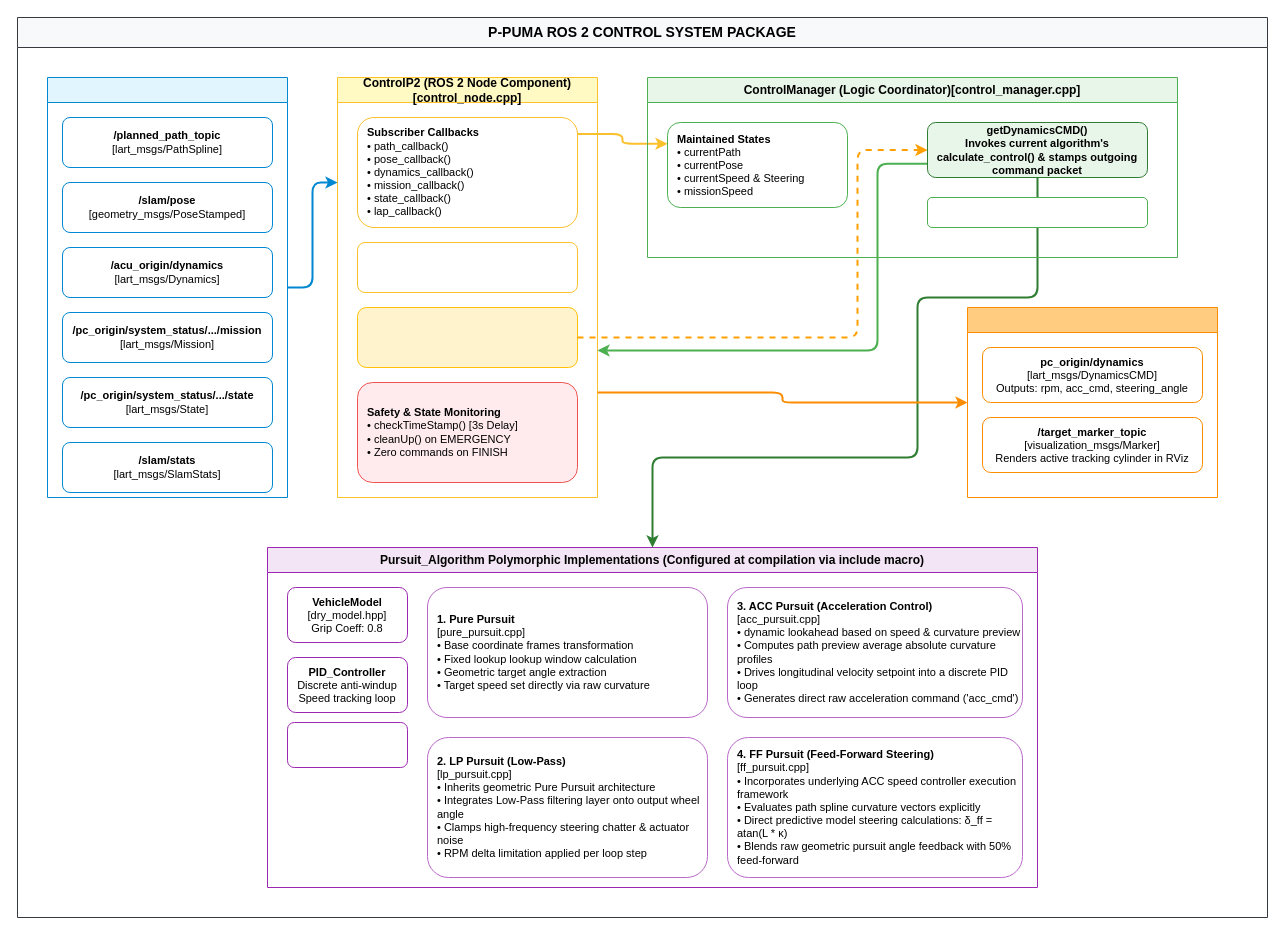
Some shapes in this 1285 by 935 pixel diagram are drawn without their labels. The shapes that lost their labels are listed below. From the top down, each one's box as (x1, y1, x2, y2) in pixels, then its label:
(926, 196, 1148, 228): log_info() → Writes to control_log.csv
(46, 76, 288, 498): ROS 2 Subscriptions (Inputs)
(356, 242, 578, 292): Runtime Param Updates parametersCallback() Updates gains/speeds live
(356, 306, 578, 368): Control Timer Loop Runs at 50 Hz (FREQUENCY) Triggers dispatchDynamicsCMD()
(966, 306, 1218, 498): ROS 2 Publications (Outputs)
(286, 722, 408, 768): Low-Pass Filter Steering smoothing α = dt / (τ + dt)
